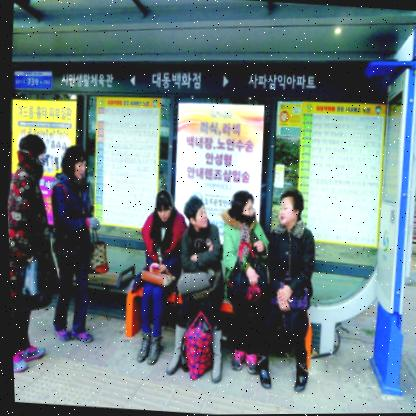person: (35, 123, 115, 359), (5, 135, 72, 384), (164, 189, 232, 383), (261, 185, 325, 385), (213, 189, 282, 374), (129, 185, 189, 366)
